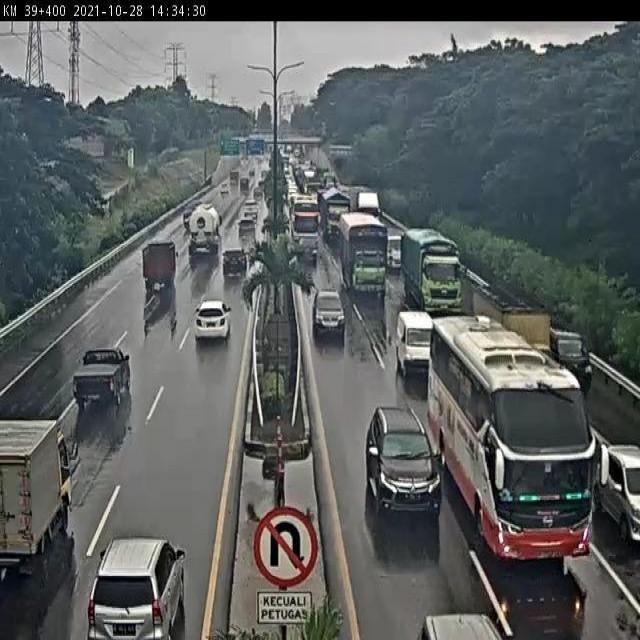big bus: (432, 318, 608, 566)
big truck: (403, 225, 468, 318), (341, 216, 391, 300)
car: (87, 534, 184, 640), (364, 402, 443, 530), (72, 345, 129, 408), (397, 308, 436, 383), (560, 322, 594, 382), (194, 297, 231, 343), (312, 290, 344, 338)
small truck: (0, 416, 85, 568), (503, 315, 553, 373), (184, 202, 225, 262), (143, 240, 178, 299)
